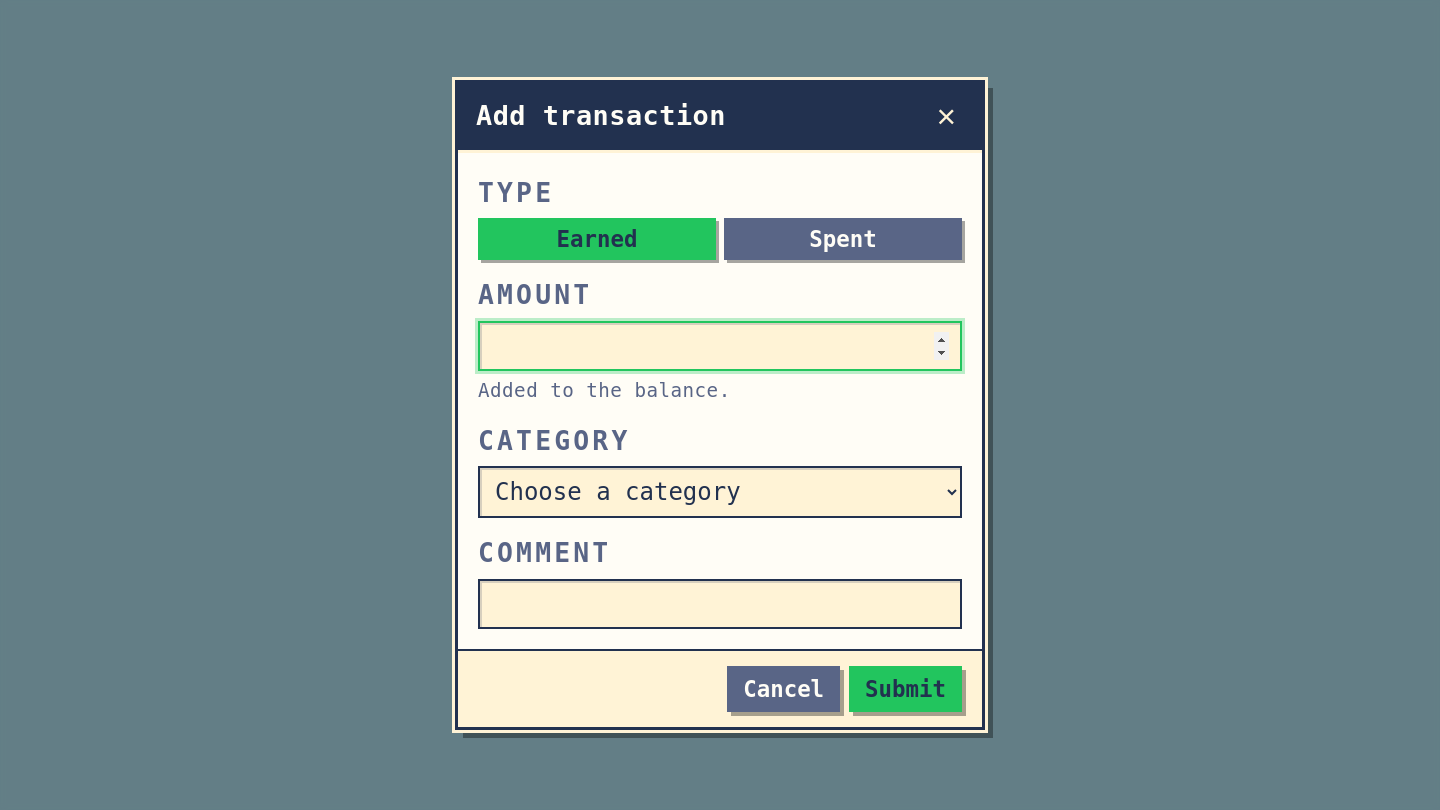
it: CoinForm › refuses a third decimal place rather than rounding it away
Type "5.755" into the number field labelled "Amount". click: {"x": 720, "y": 346}
box: left=478, top=321, right=962, bottom=371
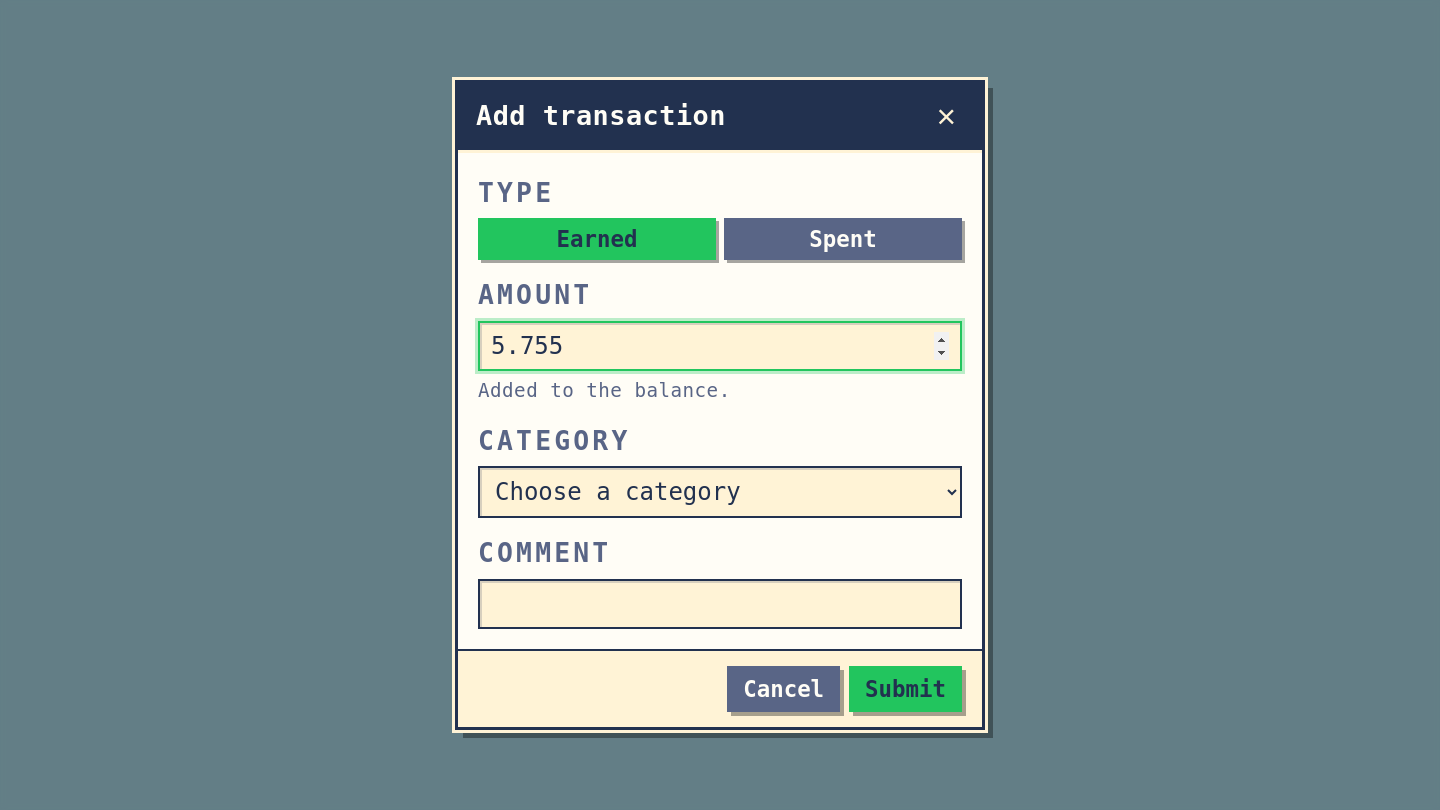
Click the button "Submit". click: {"x": 906, "y": 689}
box: left=849, top=666, right=962, bottom=712
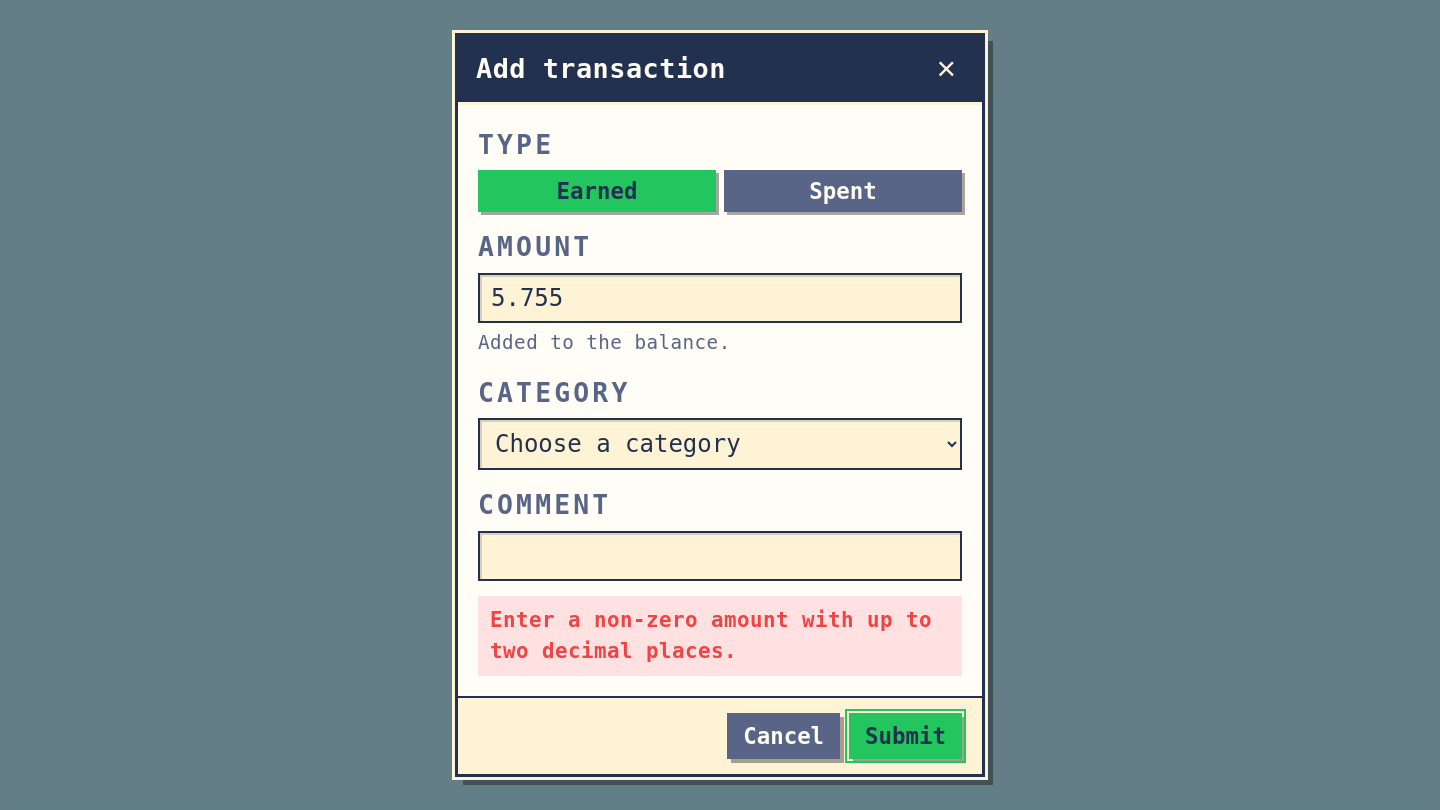
expect the message shows "two decimal places": met, box left=490, top=608, right=932, bottom=663
